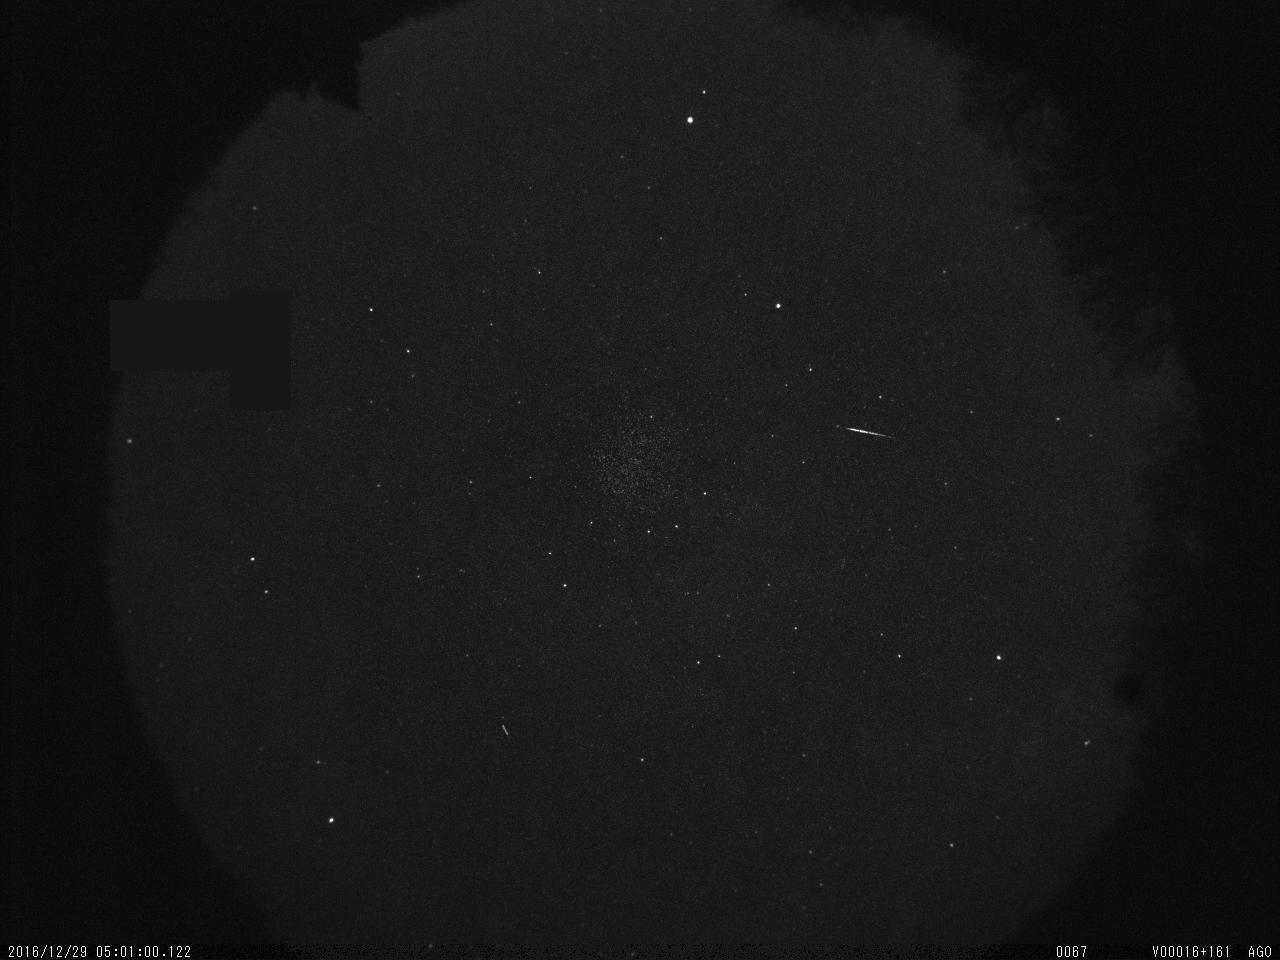meteor: (839, 418, 902, 451)
